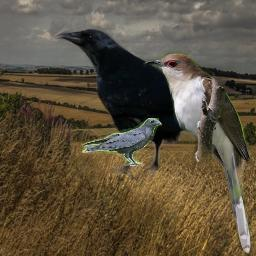Crow: (55, 26, 227, 182), (82, 118, 162, 166)
Cuckoo: (142, 51, 252, 255)
